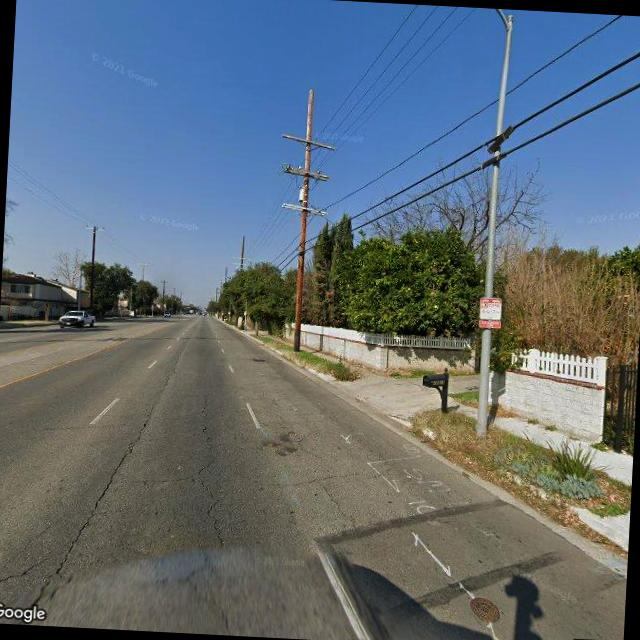crack: (0, 396, 157, 625), (182, 387, 238, 616), (254, 459, 390, 495), (310, 478, 362, 528)
